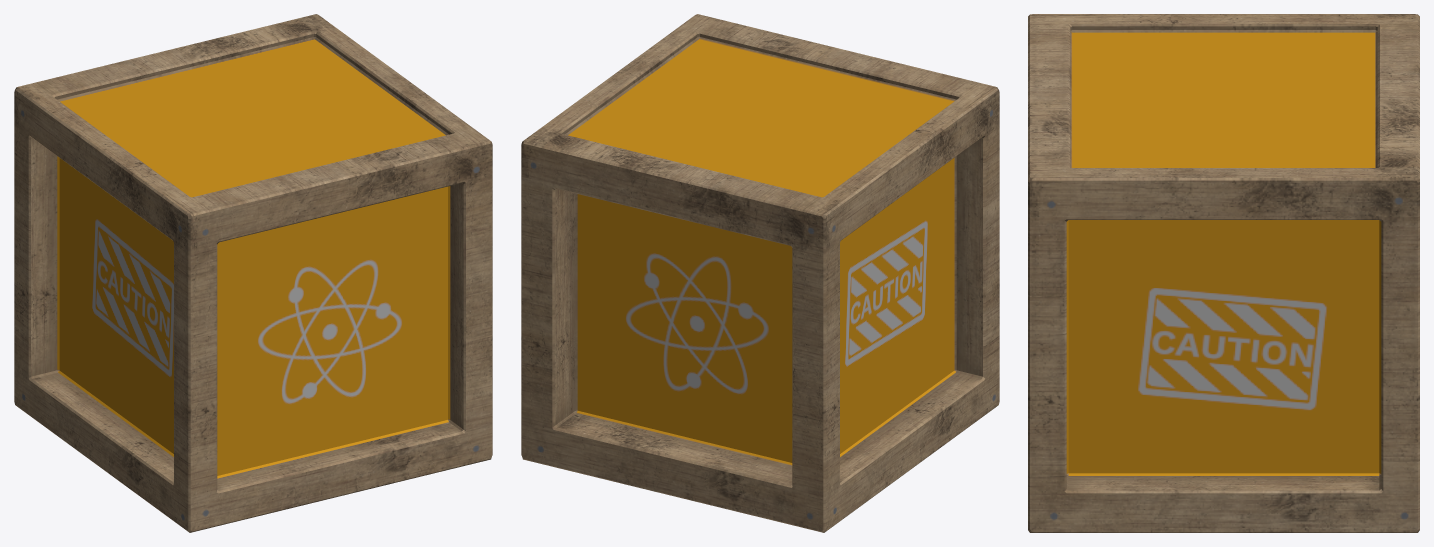
Rendered from Crate_Factory.fbx.
3 renders of one model, left to right at view 1: azimuth 30°, elevation 25°; view 2: azimuth 150°, elevation 25°; view 3: azimuth 270°, elevation 25°, orthographic. The views are drawn at different scales.
Parts seen in each view (by area): view 1: pCube14; view 2: pCube14; view 3: pCube14.
Part boxes in pixels (x1,y1,x2,y2): pCube14: (14, 14, 492, 532); pCube14: (521, 14, 999, 532); pCube14: (1028, 14, 1419, 532).
Size of the model in its own units: 2.04 by 2.04 by 2.04.
